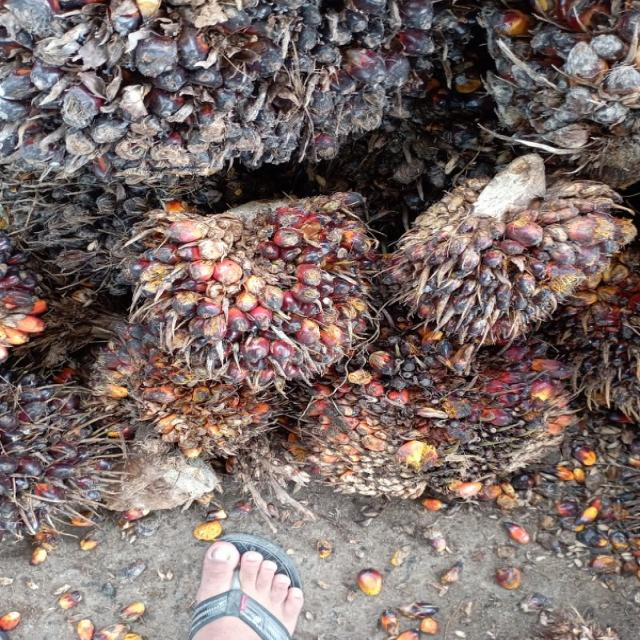fraksi 00: (0, 0, 443, 183), (390, 163, 634, 339), (317, 350, 565, 507)
fraksi 1: (134, 198, 386, 390)
